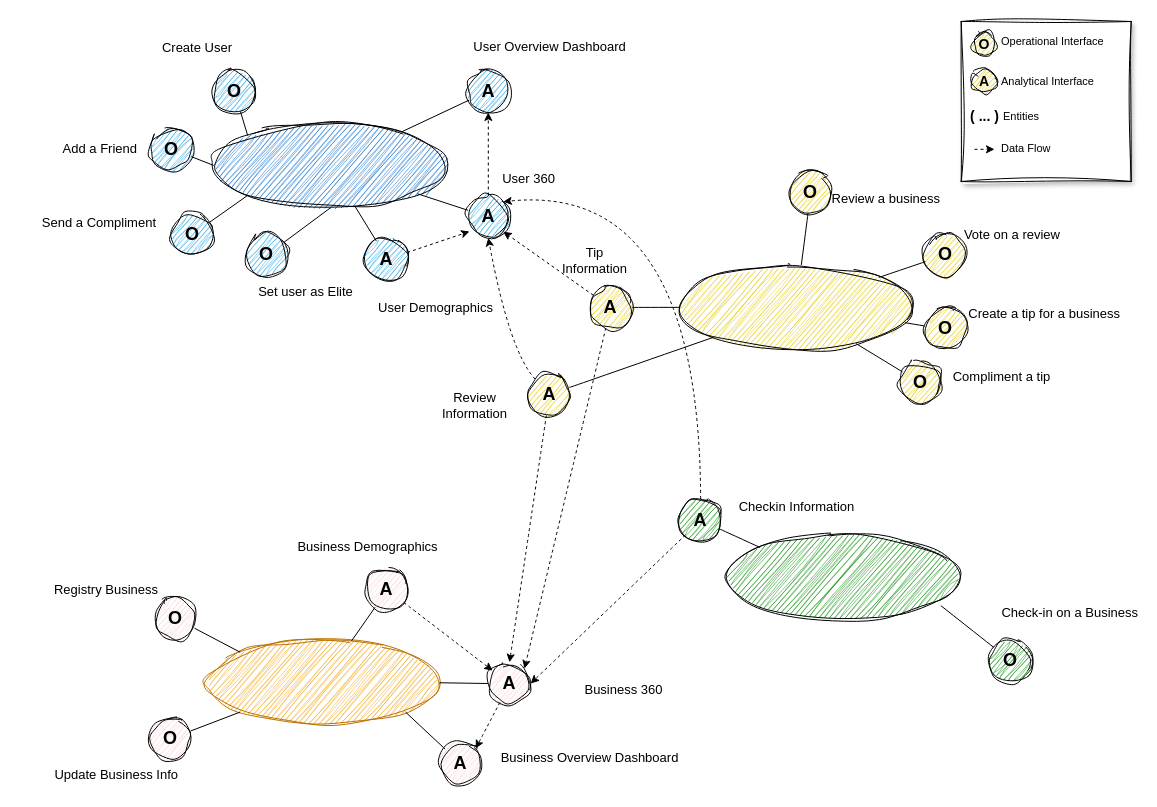
Some shapes in this 1157 by 807 pixel diagram are drawn without their labels. Here are the shapes that lost their labels. From the top down, the centre of each, then its label:
point (330, 165): User (user)
point (795, 307): Evaluations (reviews, tips)
point (842, 577): Check-in (checkins)
point (322, 682): Business (business)
